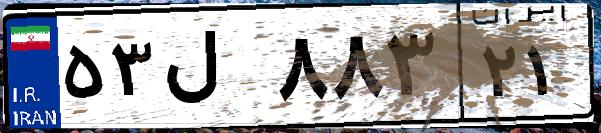1: (525, 38, 570, 115)
2: (475, 38, 525, 113)
3: (385, 28, 445, 110), (110, 28, 158, 98)
5: (57, 26, 110, 100)
8: (270, 28, 330, 110), (330, 28, 385, 110)
ل: (158, 20, 270, 120)
